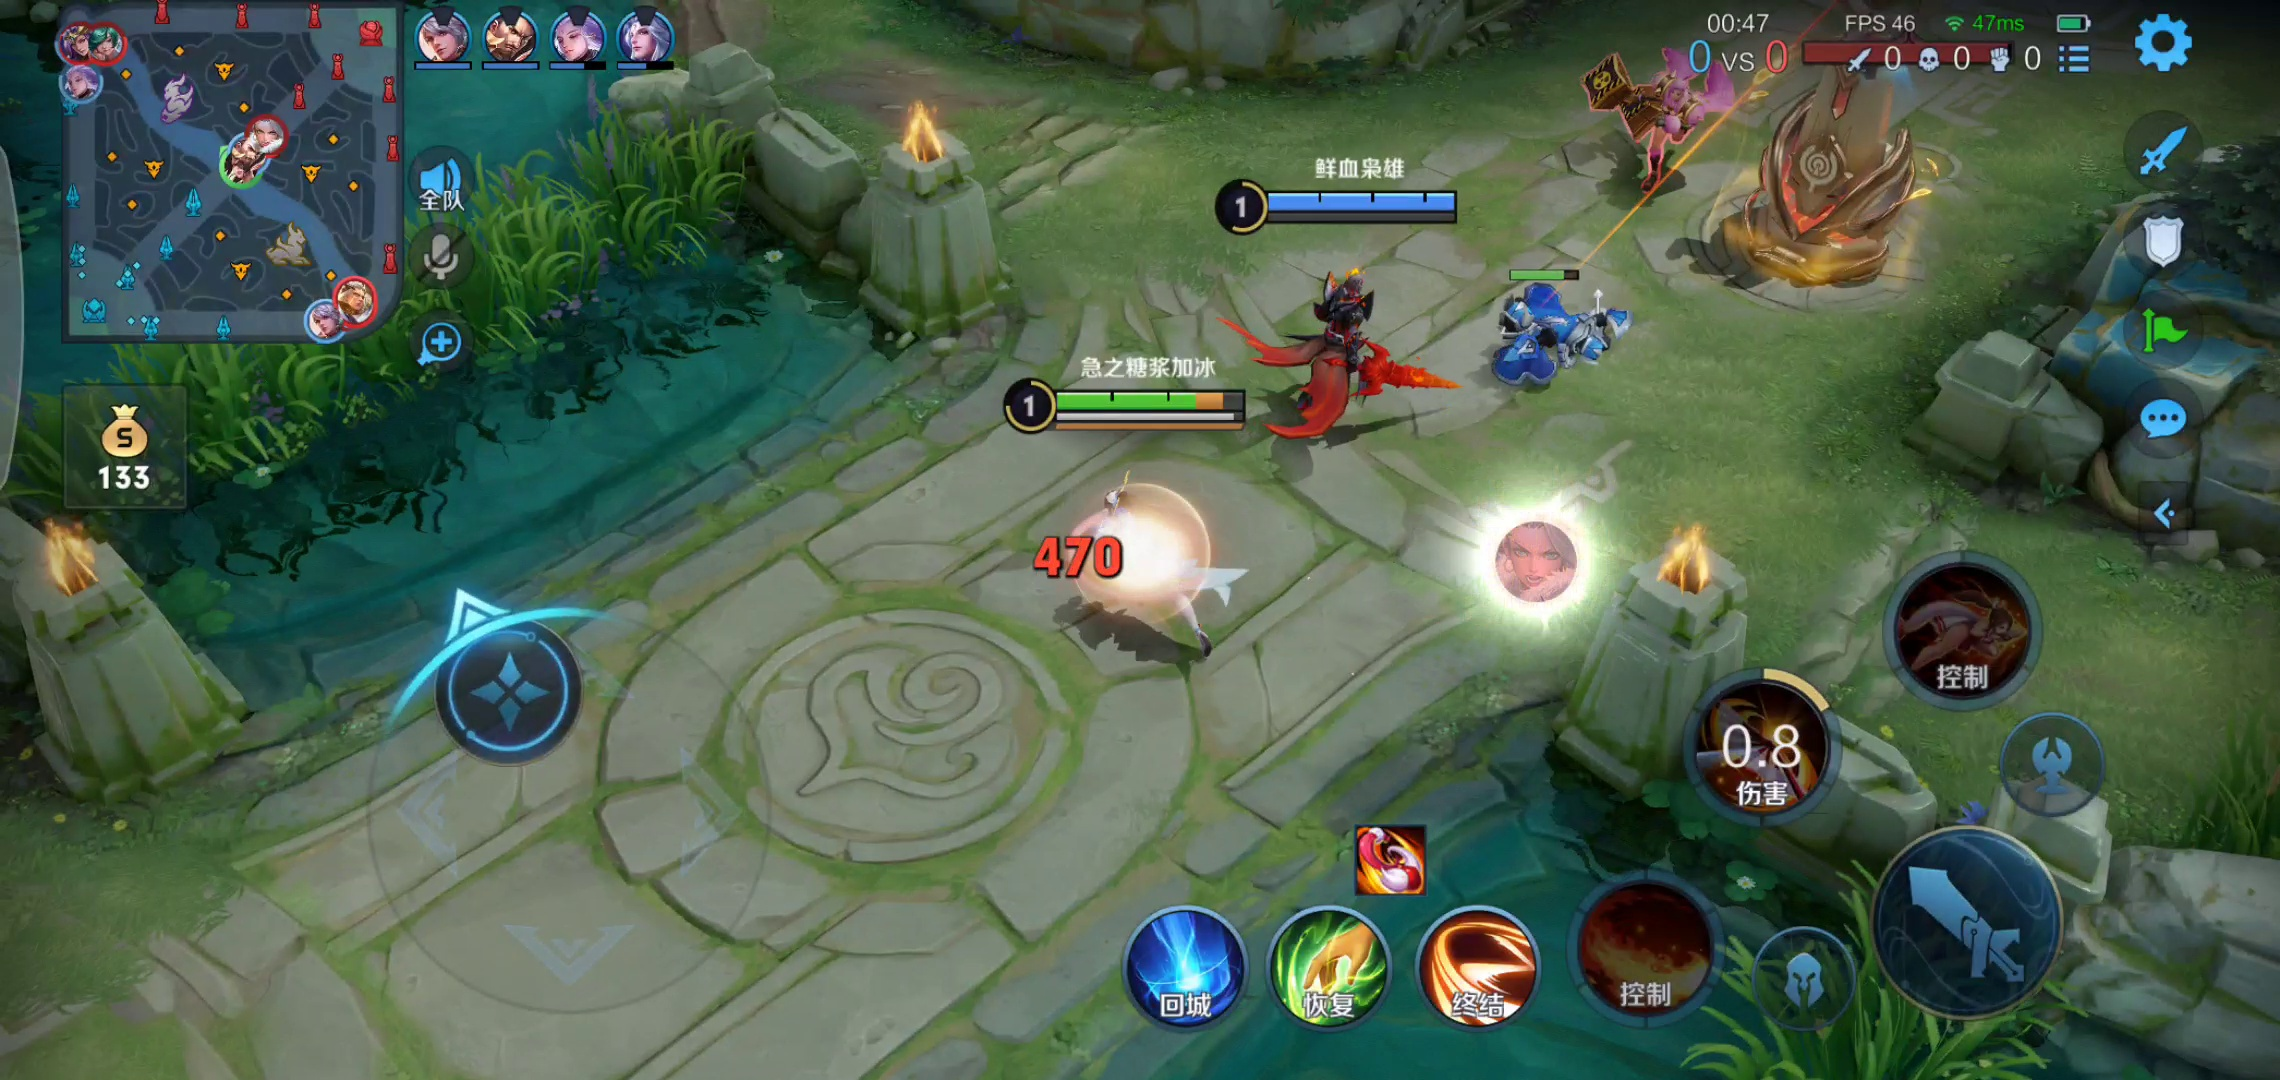grass: (28, 116, 765, 547), (1722, 856, 2076, 1079)
hero: (1031, 459, 1261, 677), (1237, 238, 1444, 448), (1579, 29, 1723, 205)
soldier: (1493, 267, 1637, 398)
tower: (1720, 15, 1937, 304)
